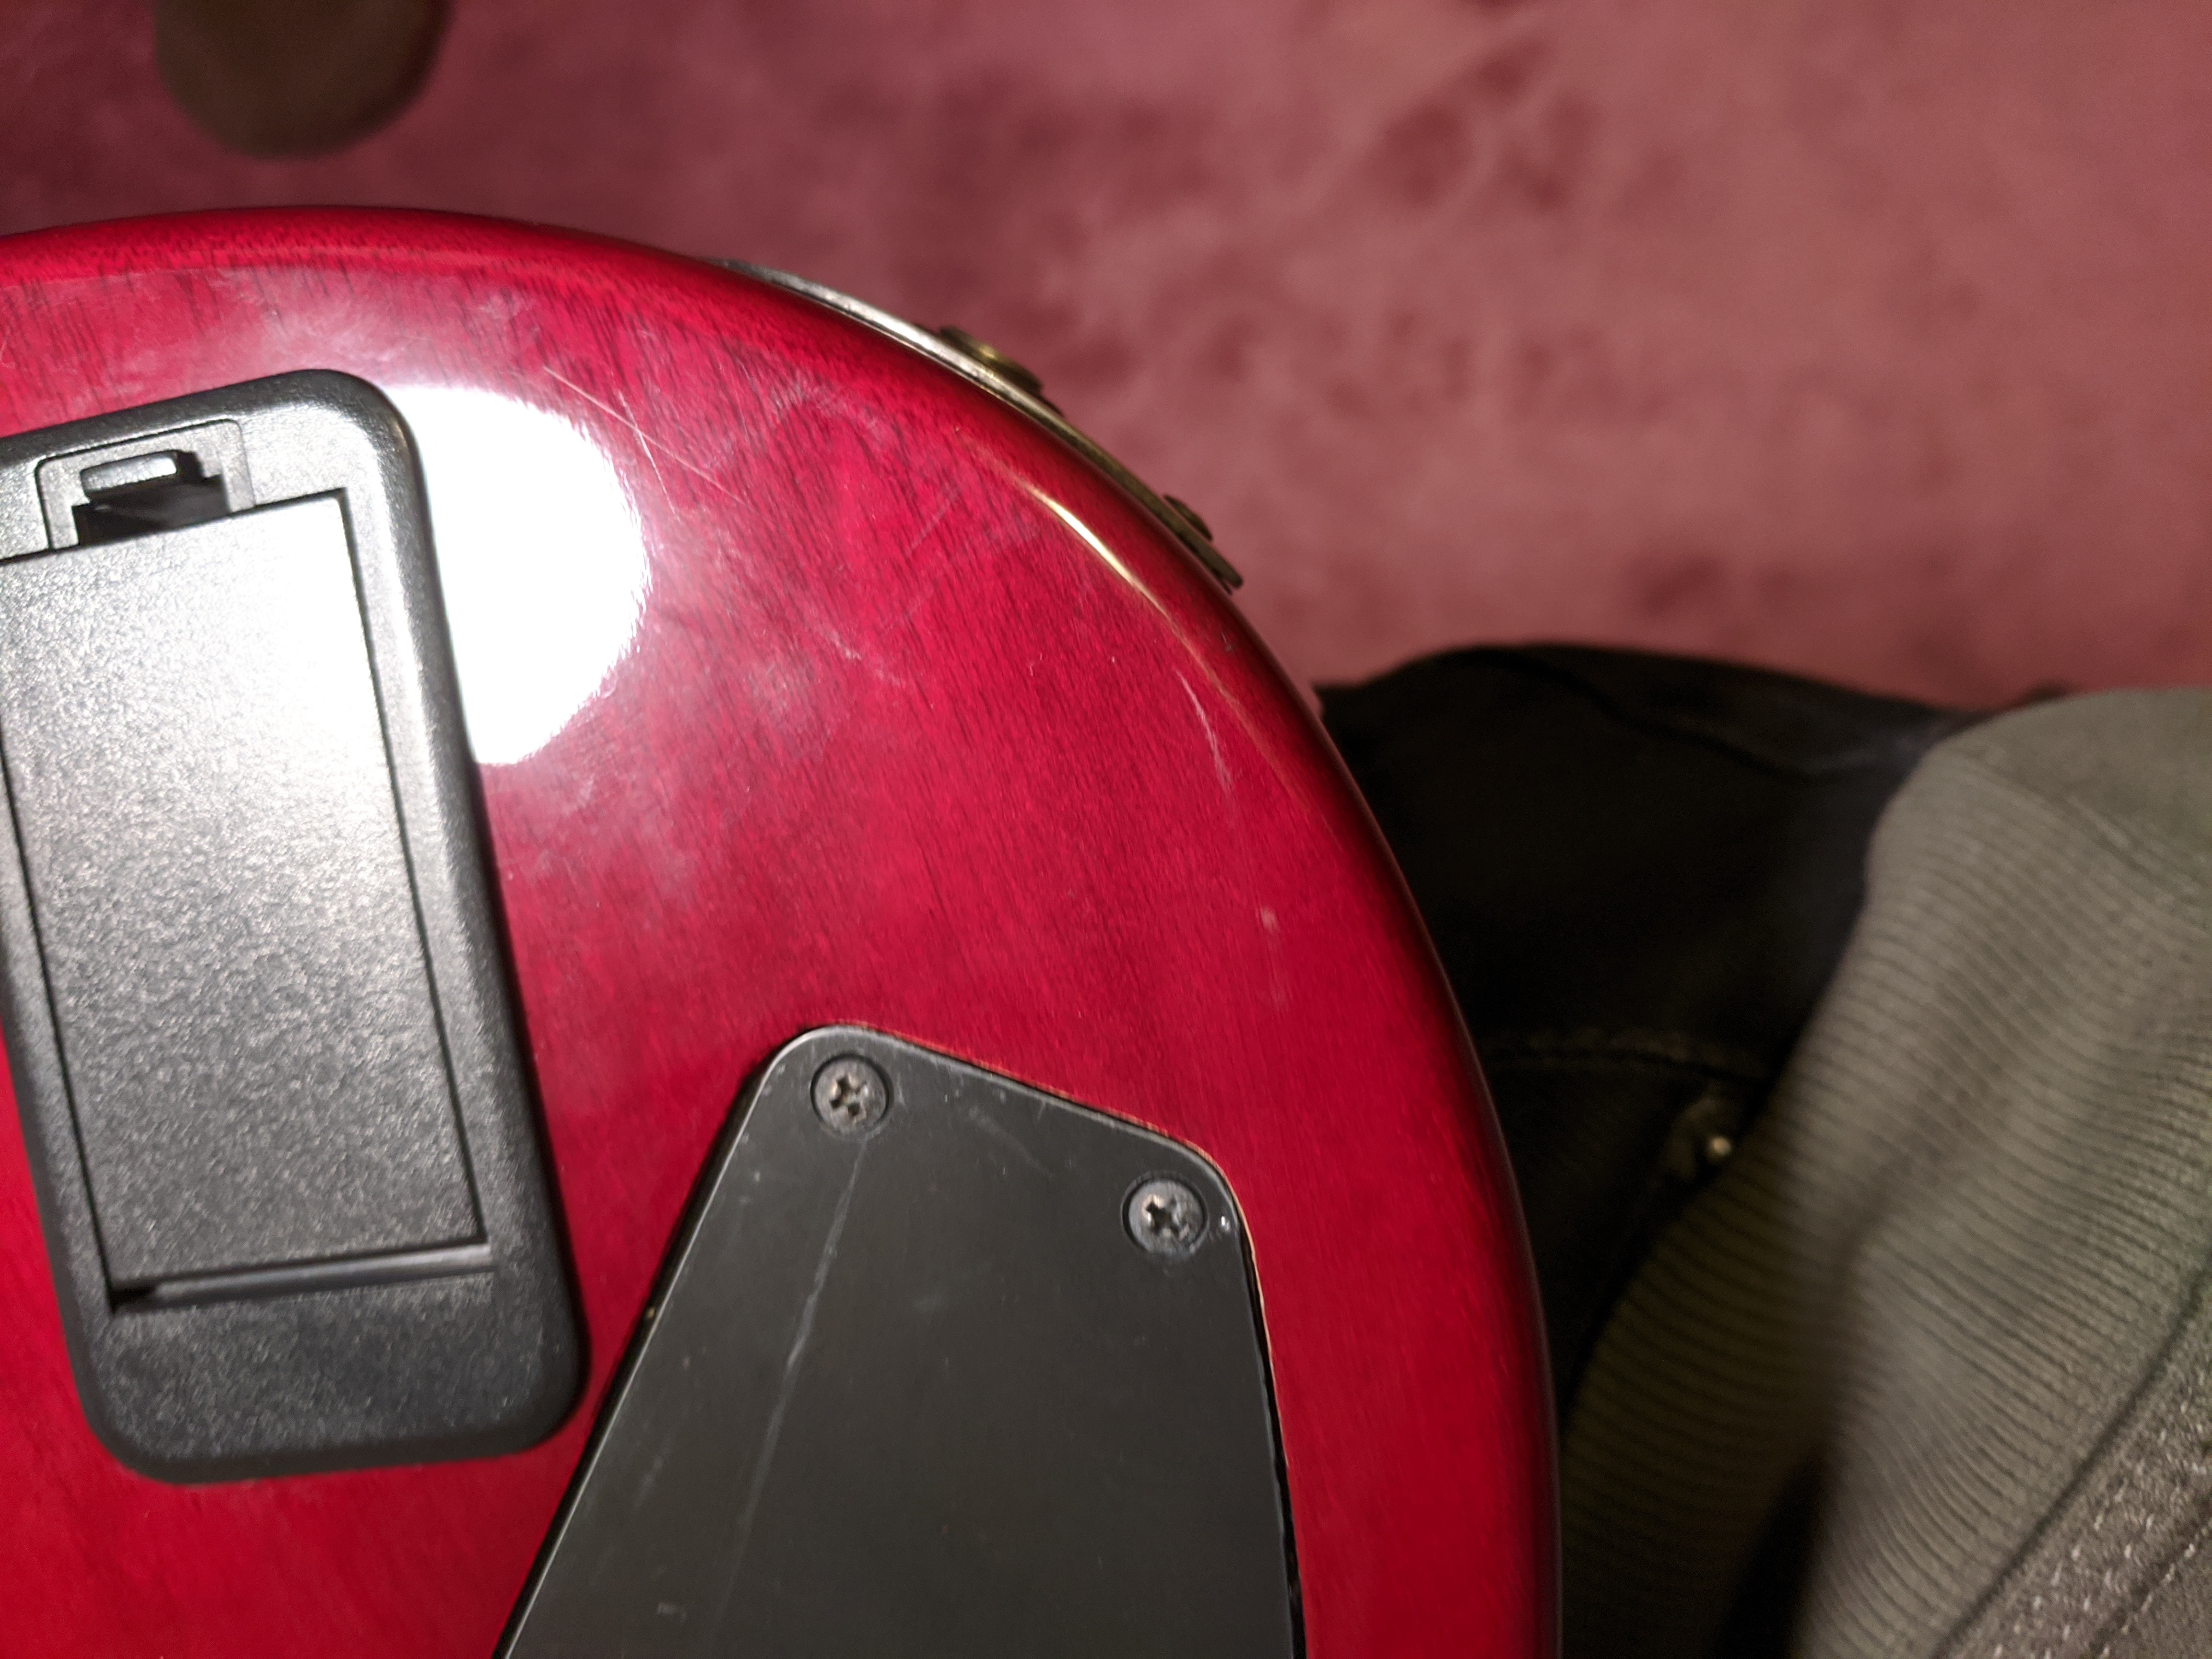cross_recessed_screw: (805, 1046, 895, 1136), (1123, 1161, 1207, 1255)
